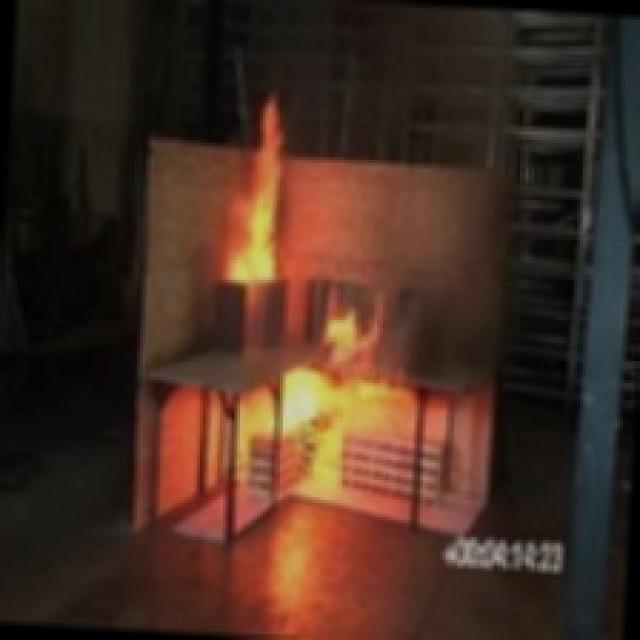fire: (224, 310, 407, 499), (191, 80, 323, 317)
